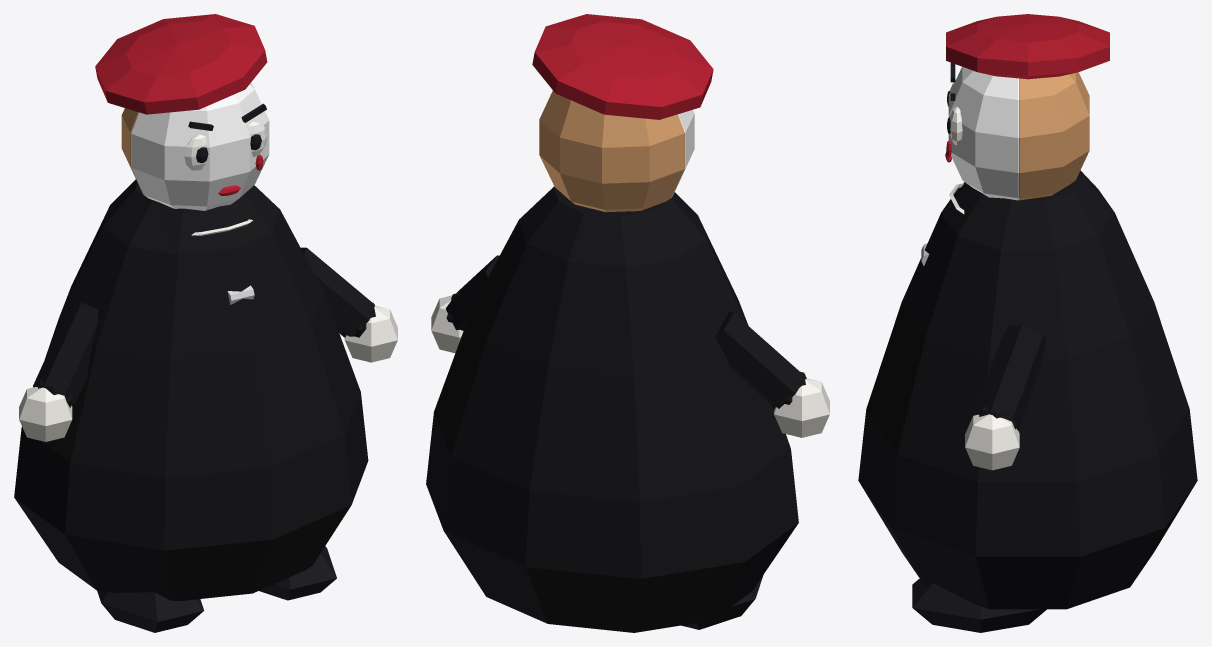
Rendered from npc_pausa.glb.
The picture shows the model from 3 angles, left to right: view 1: azimuth 30°, elevation 25°; view 2: azimuth 150°, elevation 25°; view 3: azimuth 270°, elevation 25°; orthographic projection. The views are drawn at different scales.
Parts seen in each view (by area): view 1: body_leotard, cap_beret_red, head_mime_white, arms_leotard, legs_black, arms_white, face_white, face_black, head_skin_arena; view 2: body_leotard, cap_beret_red, head_skin_arena, arms_leotard, arms_white, legs_black, head_mime_white; view 3: body_leotard, cap_beret_red, head_skin_arena, head_mime_white, arms_leotard, legs_black, arms_white.
Part boxes in pixels (x1=…): body_leotard: x1=14, y1=179, x2=368, y2=600; cap_beret_red: x1=95, y1=14, x2=267, y2=114; head_mime_white: x1=131, y1=82, x2=269, y2=210; arms_leotard: x1=33, y1=247, x2=375, y2=407; legs_black: x1=97, y1=546, x2=336, y2=632; arms_white: x1=19, y1=306, x2=397, y2=441; face_white: x1=184, y1=121, x2=267, y2=170; face_black: x1=188, y1=103, x2=266, y2=163; head_skin_arena: x1=121, y1=108, x2=143, y2=194; body_leotard: x1=426, y1=186, x2=798, y2=632; cap_beret_red: x1=532, y1=14, x2=713, y2=119; head_skin_arena: x1=539, y1=90, x2=684, y2=212; arms_leotard: x1=445, y1=255, x2=806, y2=409; arms_white: x1=431, y1=295, x2=829, y2=437; legs_black: x1=681, y1=575, x2=763, y2=629; head_mime_white: x1=671, y1=110, x2=694, y2=197; body_leotard: x1=858, y1=170, x2=1197, y2=609; cap_beret_red: x1=946, y1=14, x2=1109, y2=79; head_skin_arena: x1=1019, y1=72, x2=1089, y2=200; head_mime_white: x1=948, y1=66, x2=1018, y2=200; arms_leotard: x1=975, y1=325, x2=1046, y2=430; legs_black: x1=912, y1=578, x2=1046, y2=632; arms_white: x1=965, y1=414, x2=1019, y2=470.
Bounding box in the file's own units: 1.14 × 1.58 × 0.86.
